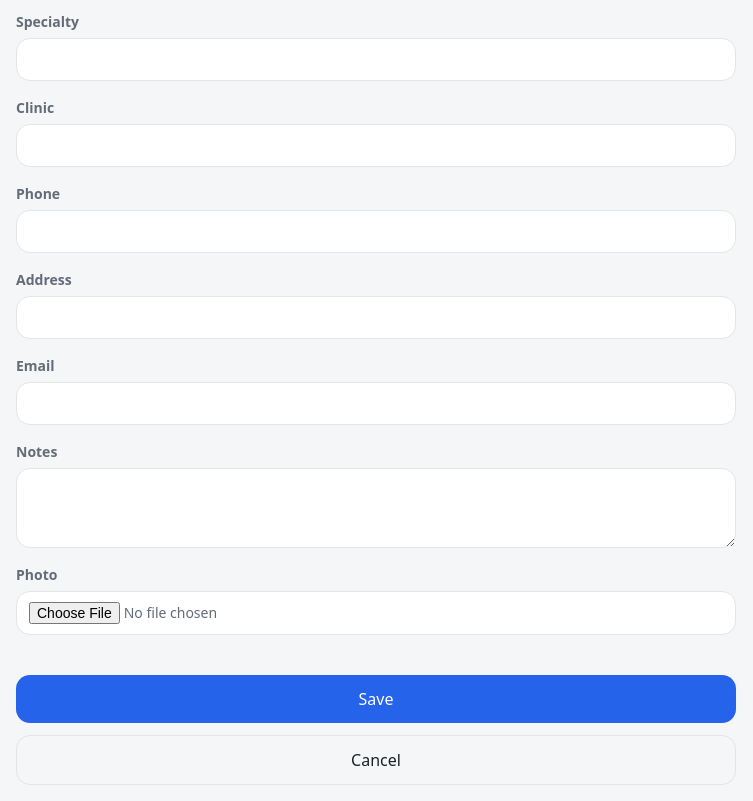
Test: DoctorFormScreen › blocks submission and shows an error when the name is left blank
(page scrolled)
Step 1. Click the button "Save" → (376, 699), box top-left (16, 675), bottom-right (736, 723)
(page scrolled)
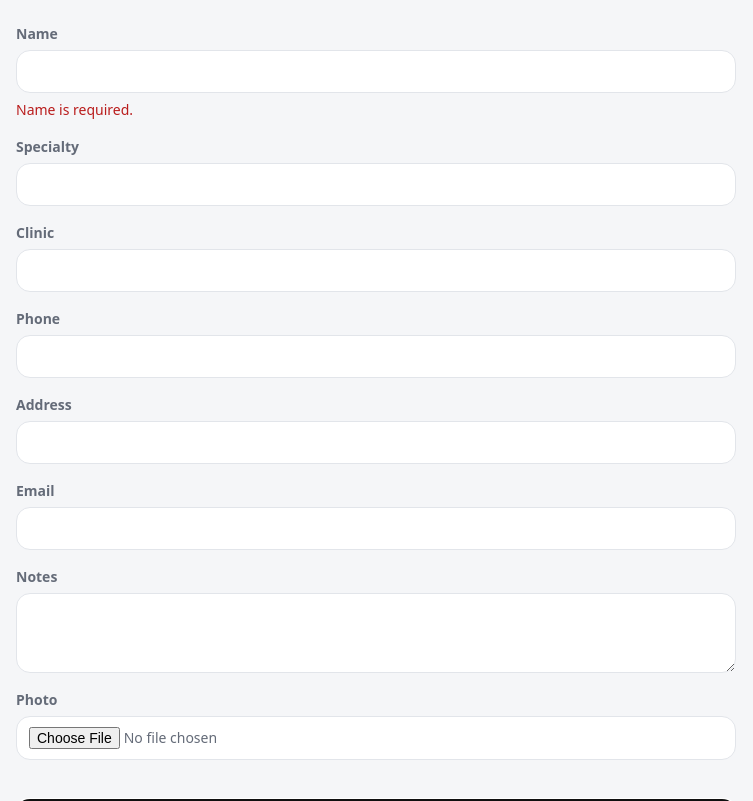
Expected: the text "Name is required." is shown, top-left (16, 100), bottom-right (133, 119)
